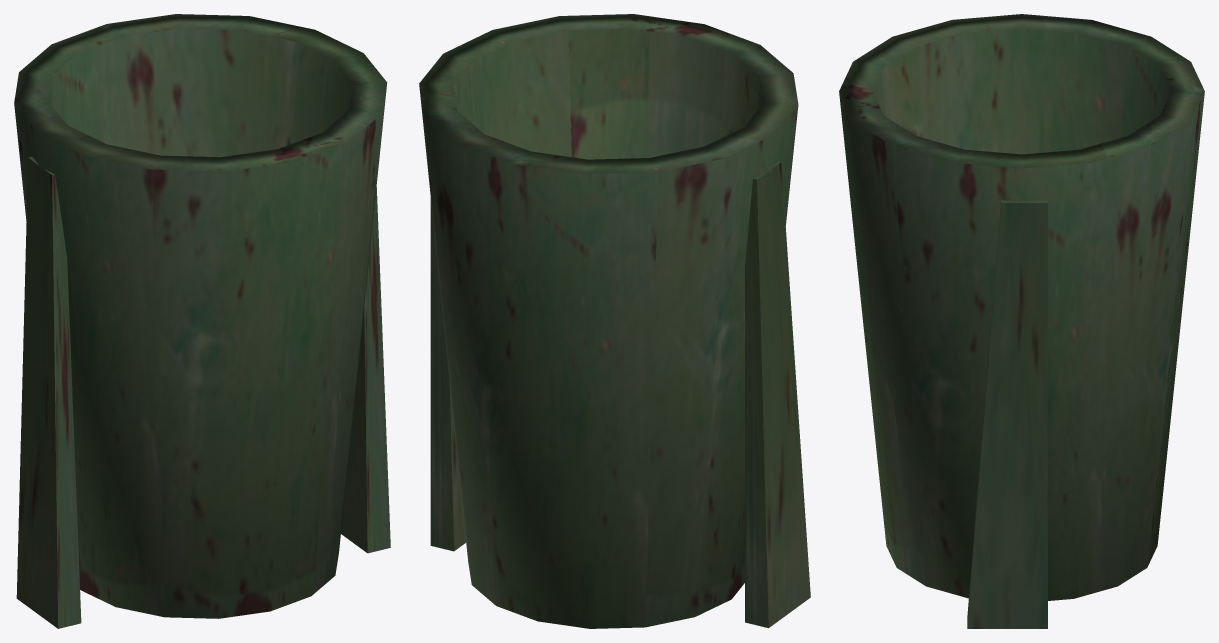
The model's file is Мусорка.glb.
3 renders of one model, left to right at view 1: azimuth 30°, elevation 25°; view 2: azimuth 150°, elevation 25°; view 3: azimuth 270°, elevation 25°, orthographic. The views are drawn at different scales.
Visible parts, largest first — view 1: Cylinder; view 2: Cylinder; view 3: Cylinder.
Part boxes in pixels (x1,y1,x2,y2): Cylinder: (14, 14, 390, 628); Cylinder: (419, 14, 810, 628); Cylinder: (839, 14, 1204, 628).
Bounding box in the file's own units: 0.3483 × 0.4728 × 0.3403.
1 material, 1 textured.
